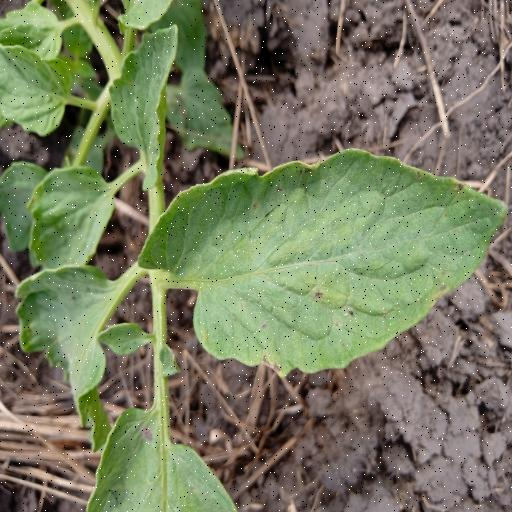Tomato_Mildiou: (145, 142, 512, 385)
